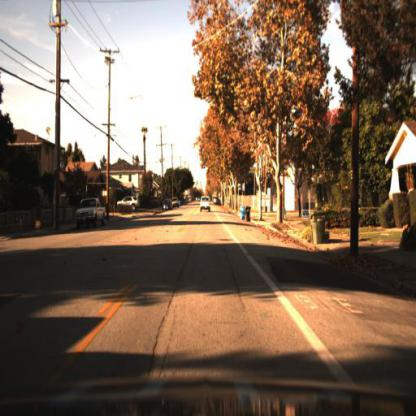car: (76, 197, 109, 233), (117, 194, 141, 214), (199, 193, 212, 213), (161, 199, 173, 216)
